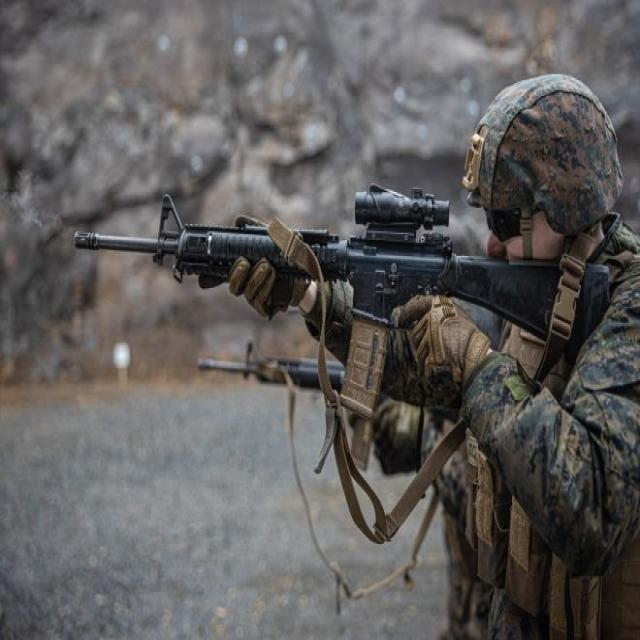m16: (50, 150, 620, 362)
